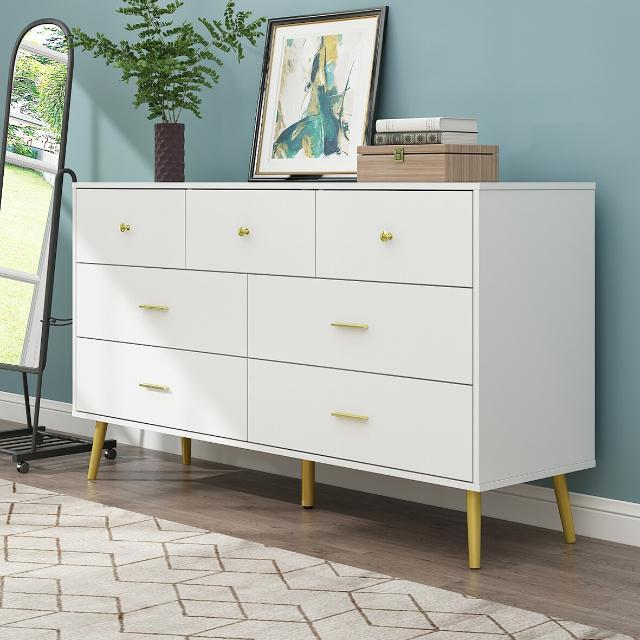dresser: (63, 166, 617, 586)
